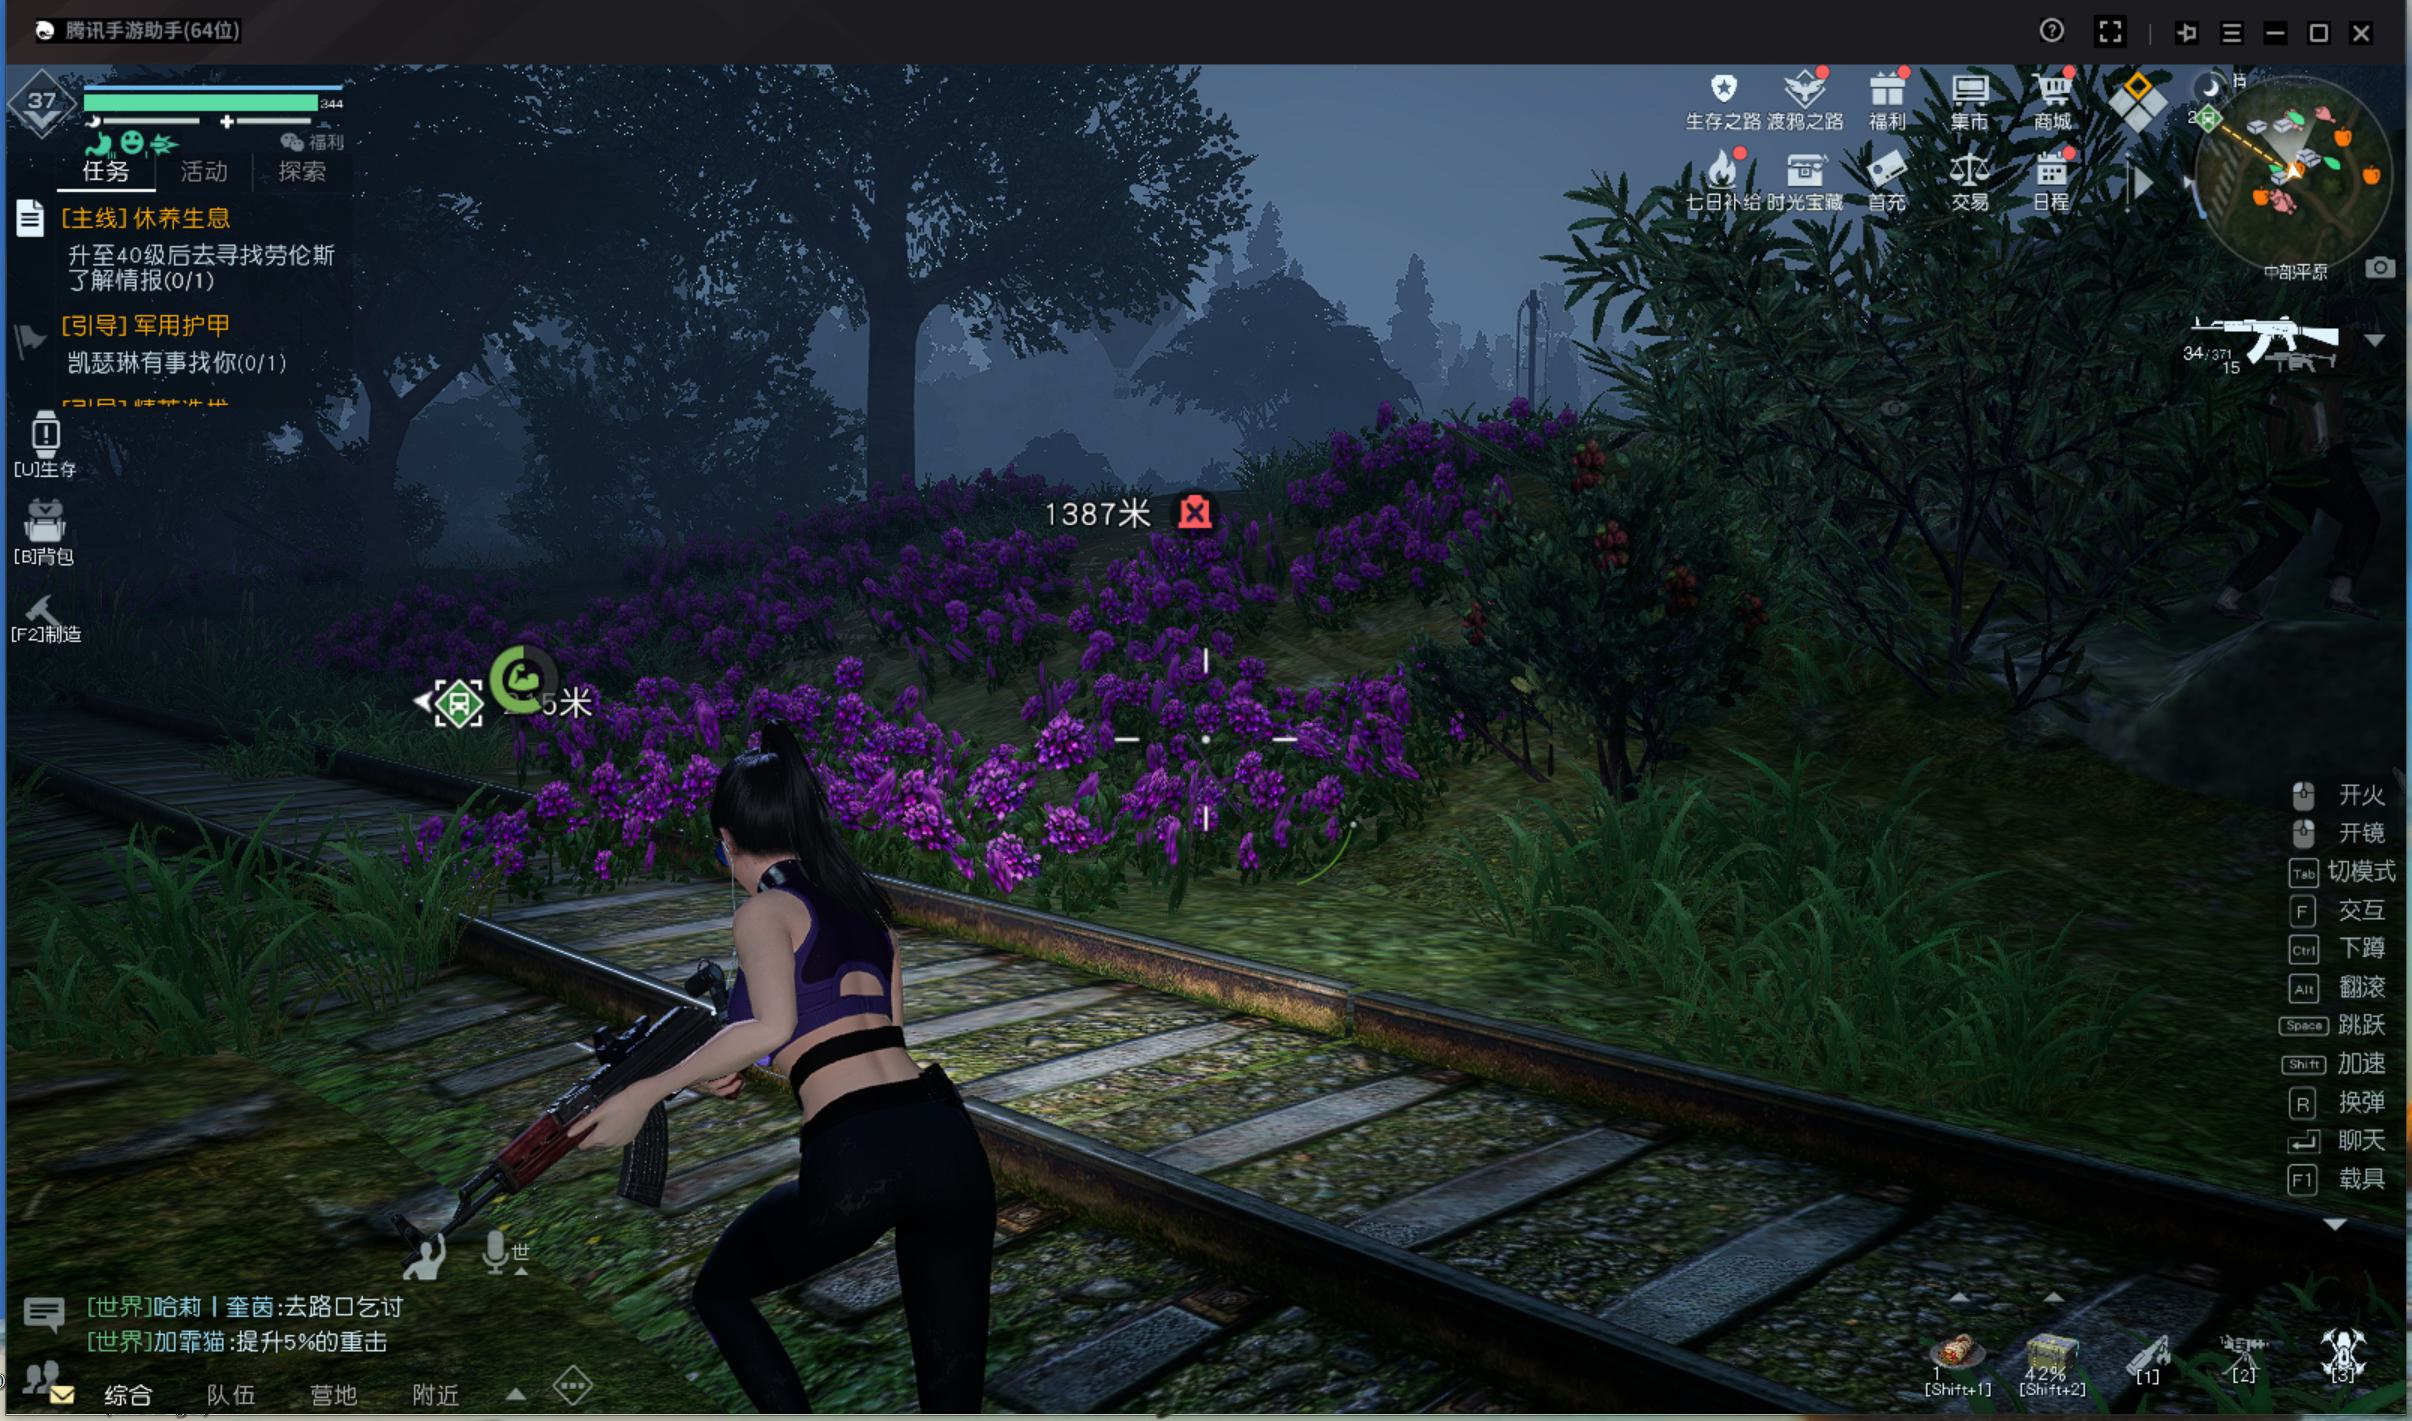tree: (854, 315, 934, 550)
